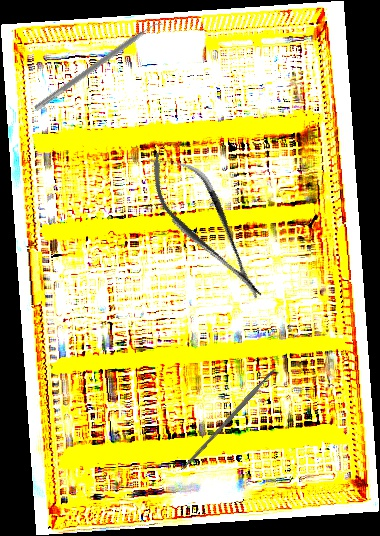Micro Scissor: (134, 137, 280, 314)
Scalpel Handle: (179, 367, 278, 473)
Spatula Surgical: (33, 16, 166, 117)
